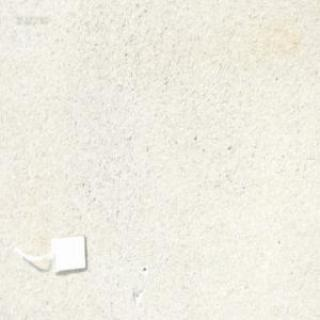LuggageTagtrack_idkeyframe: (11, 232, 88, 276)
